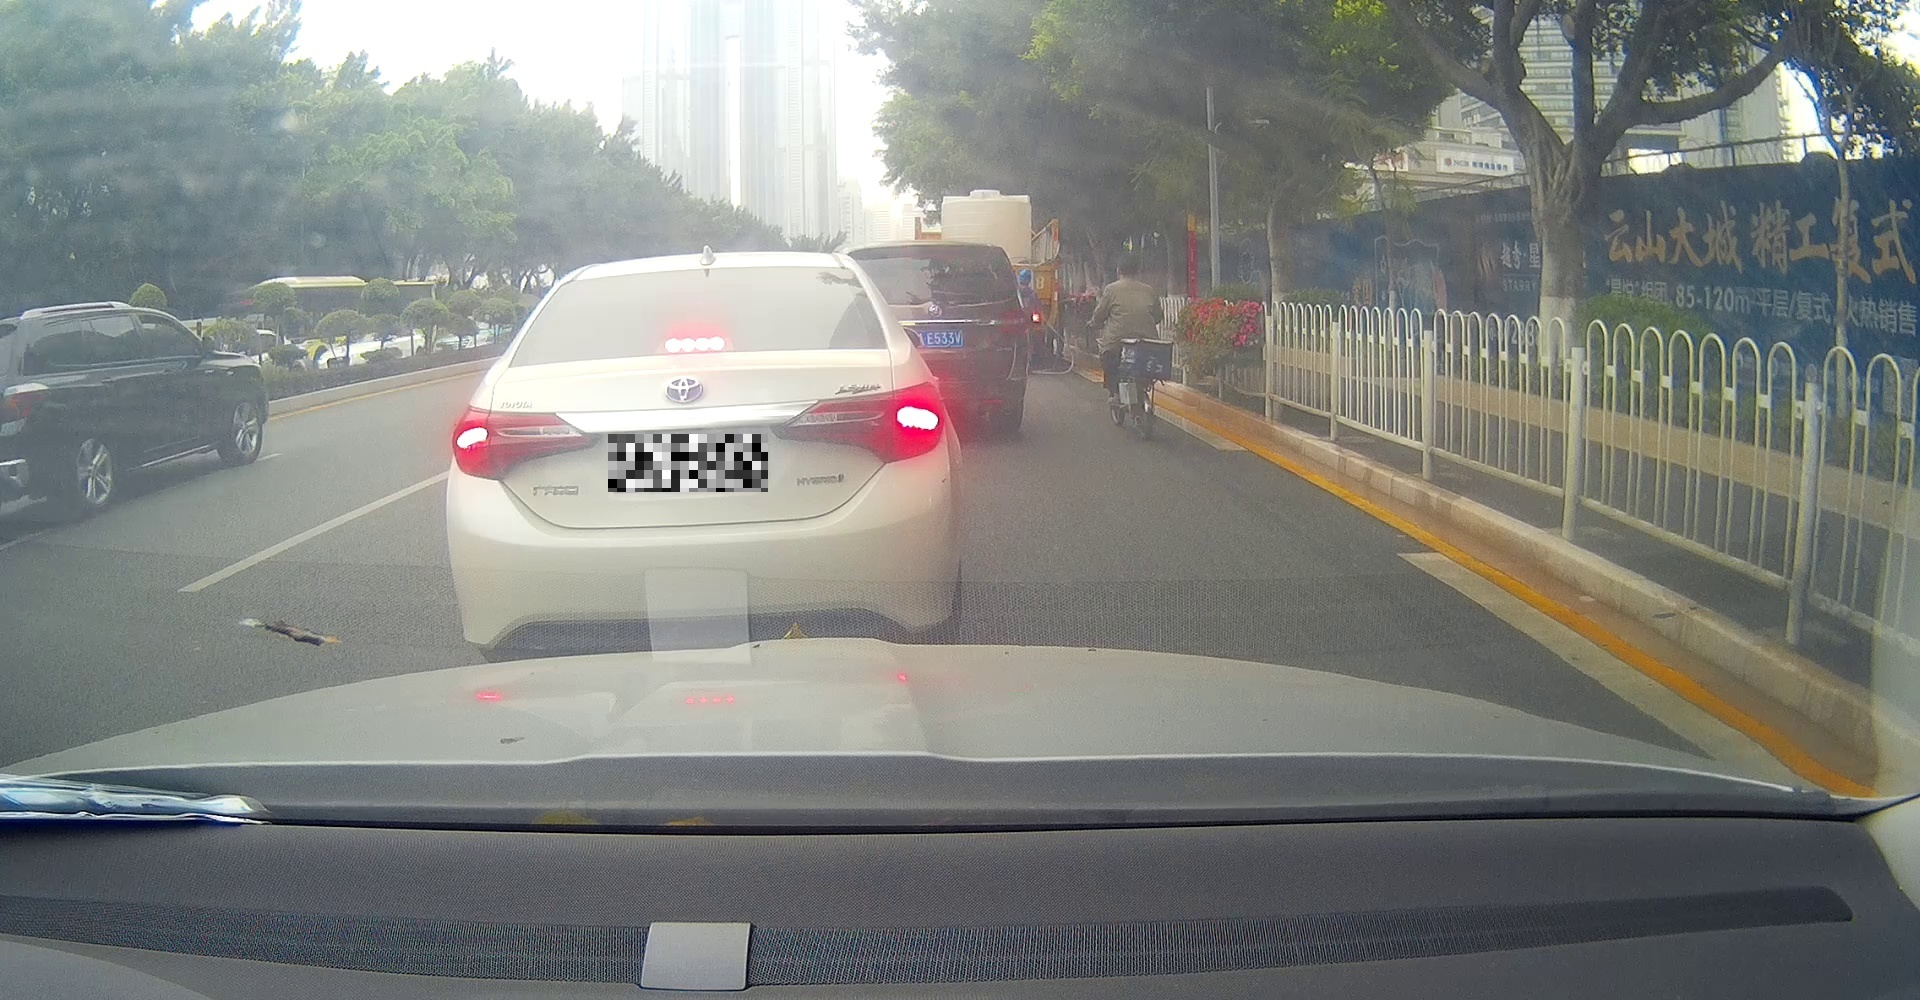L_light: (451, 405, 602, 481)
R_light: (771, 381, 945, 462)
T_light: (664, 335, 728, 354)
day-brake: (444, 253, 963, 662)
plate_1: (608, 434, 768, 492)
